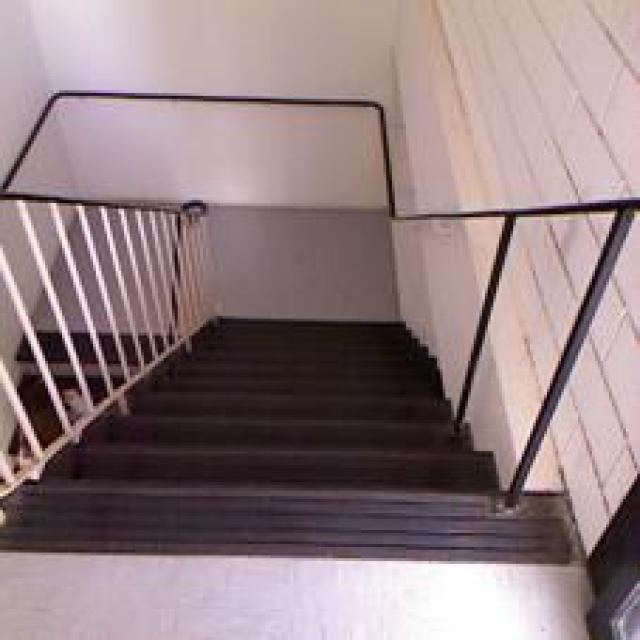stair: (23, 415, 519, 570)
